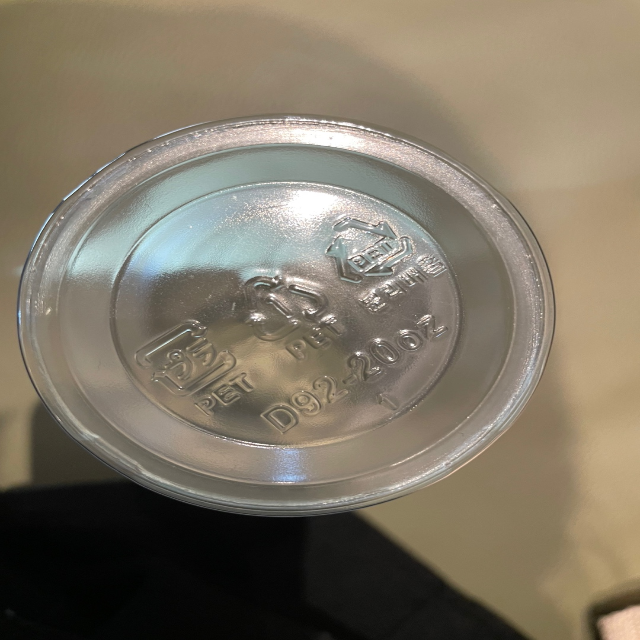pet: (123, 309, 253, 416), (320, 211, 448, 313), (232, 262, 347, 361)
